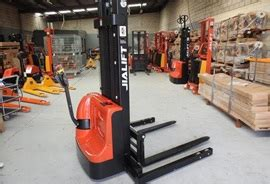Pallet Jack: (56, 2, 214, 183)
